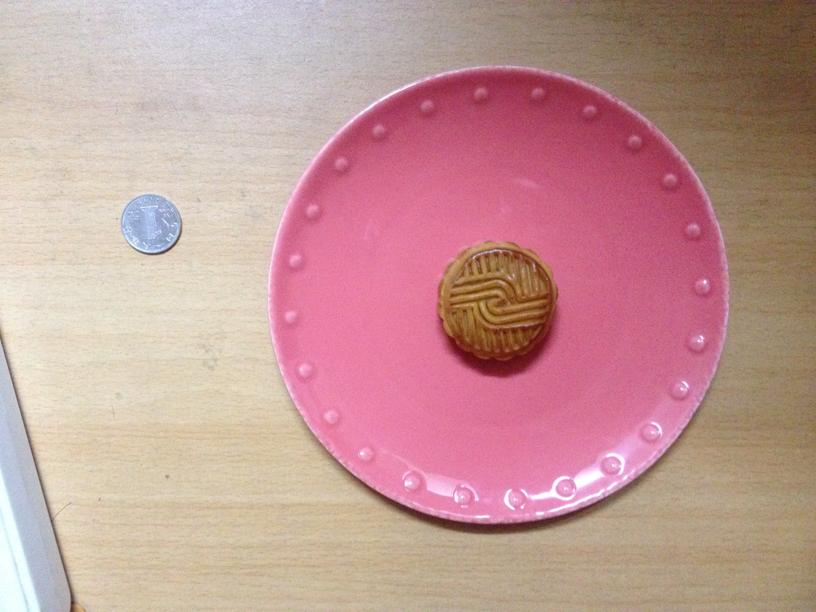coin: (121, 192, 183, 256)
mooncake: (434, 239, 557, 361)
